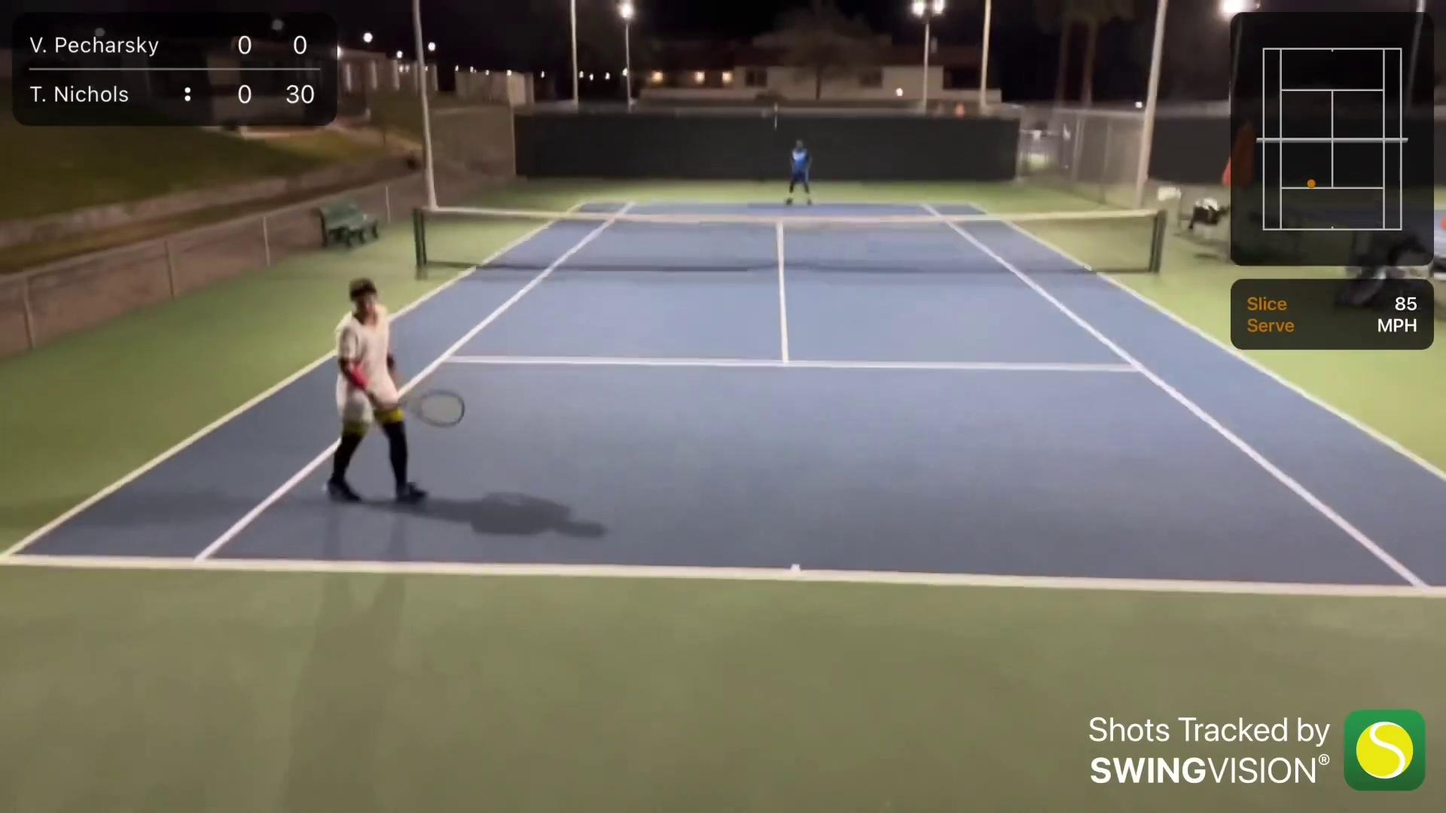ball: (387, 408, 409, 426)
